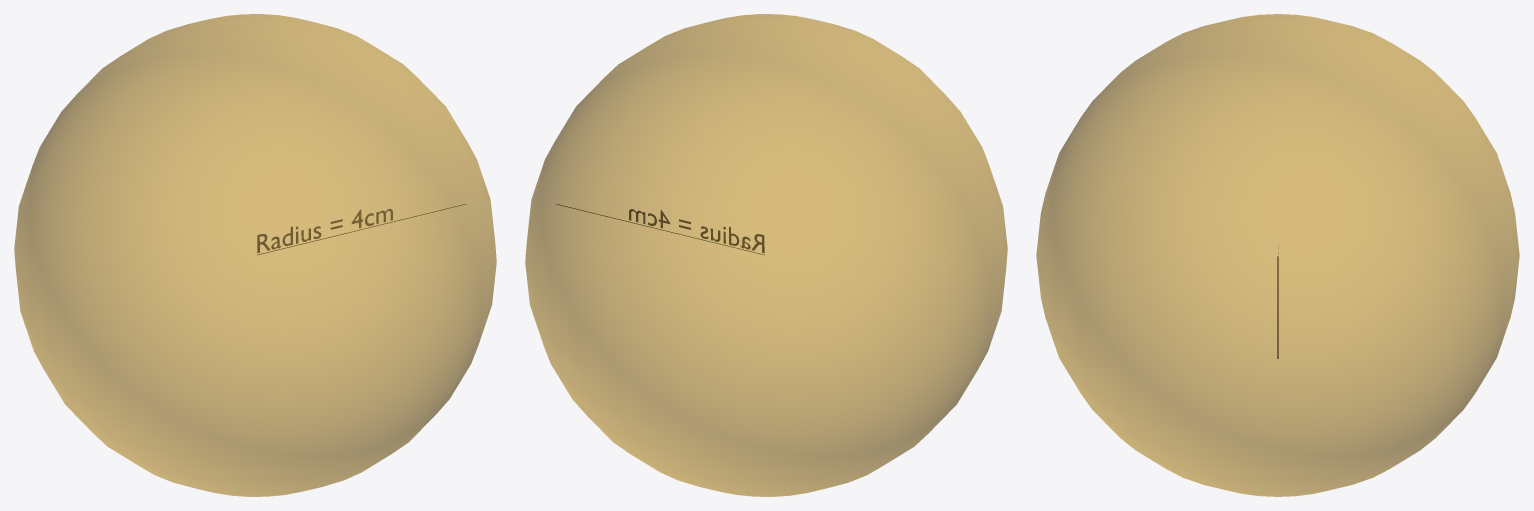
Rendered from spherer4.glb.
3 renders of one model, left to right at view 1: azimuth 30°, elevation 25°; view 2: azimuth 150°, elevation 25°; view 3: azimuth 270°, elevation 25°, orthographic.
Visible parts, largest first — view 1: Sphere, Text; view 2: Sphere, Text; view 3: Sphere.
Part boxes in pixels (x1,y1,x2,y2): Sphere: (14, 14, 496, 496); Text: (257, 209, 392, 252); Sphere: (525, 14, 1007, 496); Text: (629, 209, 764, 252); Sphere: (1036, 14, 1519, 496).
Size of the model in its own units: 0.8034 by 0.8 by 0.8.
